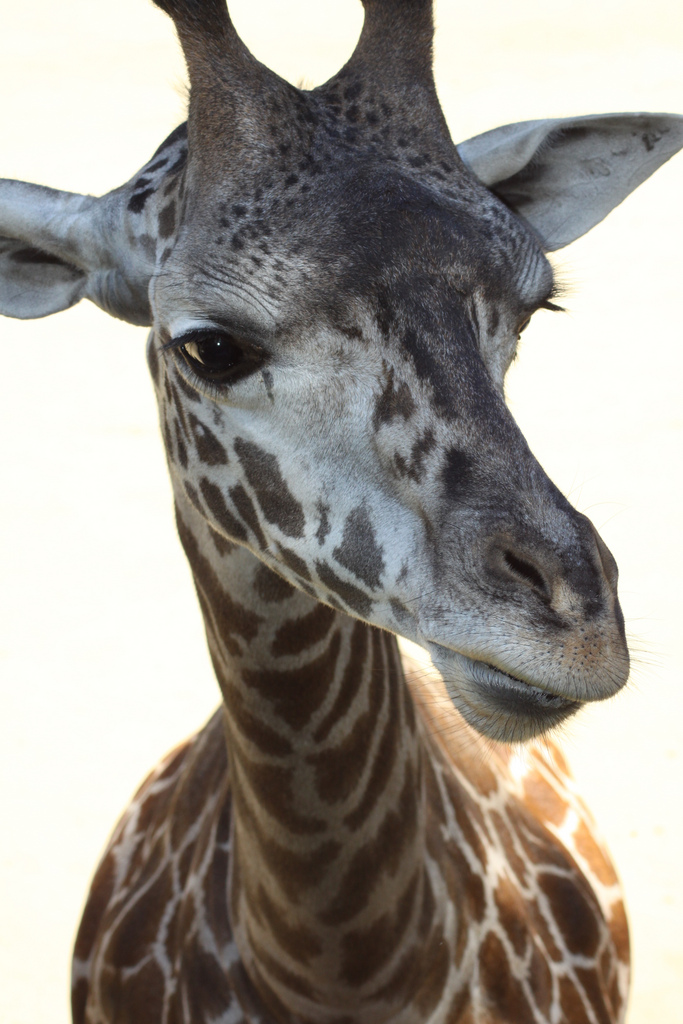giraffe: (32, 10, 671, 984)
